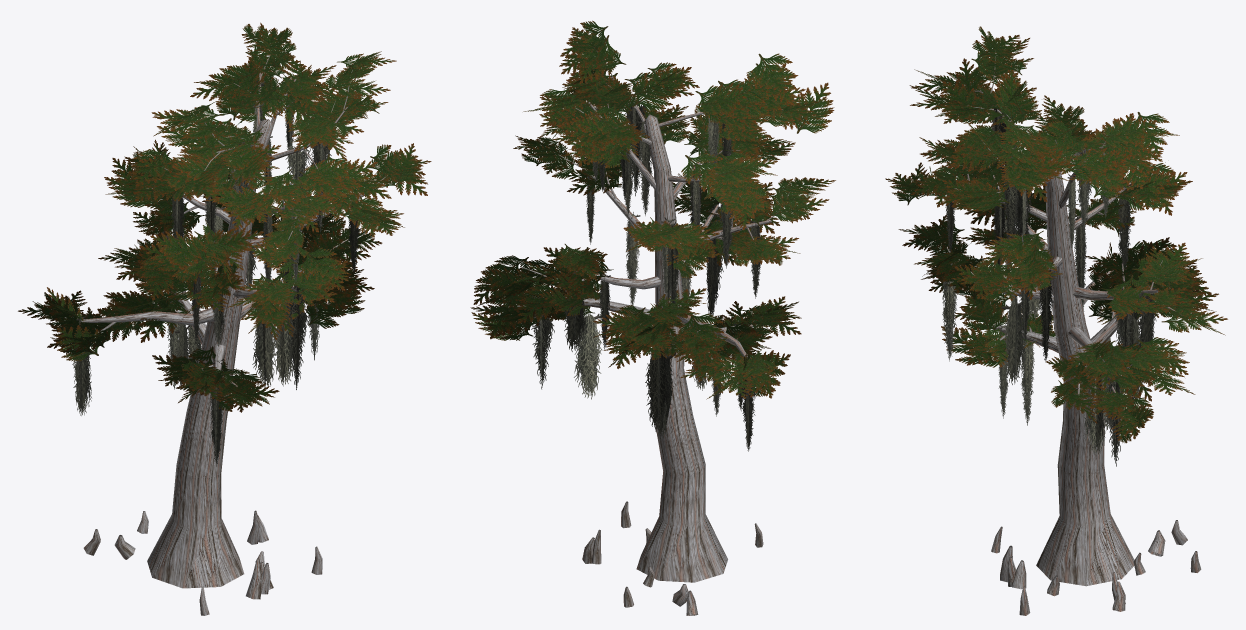
Rendered from nature-black-swamp-cypress_v2.glb.
3 views of the same model, side by side, from view 1: azimuth 30°, elevation 25°; view 2: azimuth 150°, elevation 25°; view 3: azimuth 270°, elevation 25° (orthographic). The views are drawn at different scales.
Parts seen in each view (by area): view 1: nature-black-swamp-cypress; view 2: nature-black-swamp-cypress; view 3: nature-black-swamp-cypress.
Part boxes in pixels (box(x1,y1,x2,y2)): nature-black-swamp-cypress: box(18, 22, 431, 615); nature-black-swamp-cypress: box(470, 20, 835, 615); nature-black-swamp-cypress: box(885, 26, 1227, 615).
Size of the model in its own units: 7.87 by 11.39 by 6.96.
2 materials, 2 textured.
